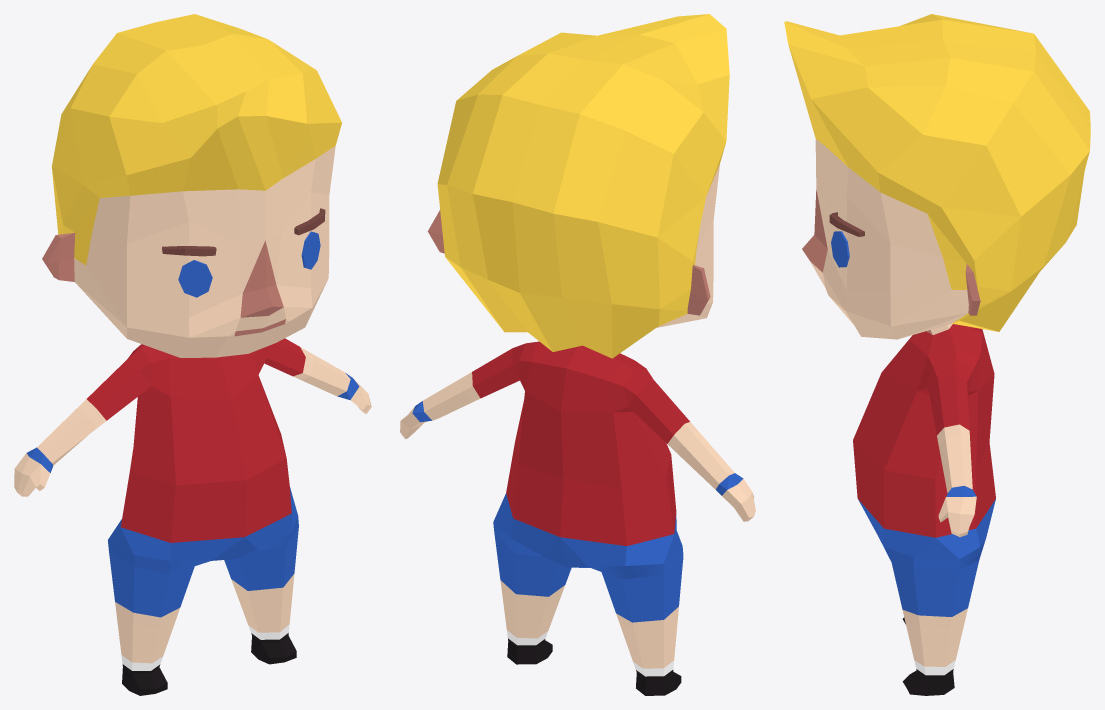
File: boy.glb
3 views of the same model, side by side, from view 1: azimuth 30°, elevation 25°; view 2: azimuth 150°, elevation 25°; view 3: azimuth 270°, elevation 25° (orthographic).
Visible parts, largest first — view 1: Object_2; view 2: Object_2; view 3: Object_2.
Part boxes in pixels (x1=…): Object_2: x1=14, y1=14, x2=371, y2=695; Object_2: x1=400, y1=14, x2=755, y2=695; Object_2: x1=784, y1=14, x2=1090, y2=695.
Bounding box in the file's own units: 2 × 3.37 × 1.51.
Materials: 1 (1 with a texture image).
